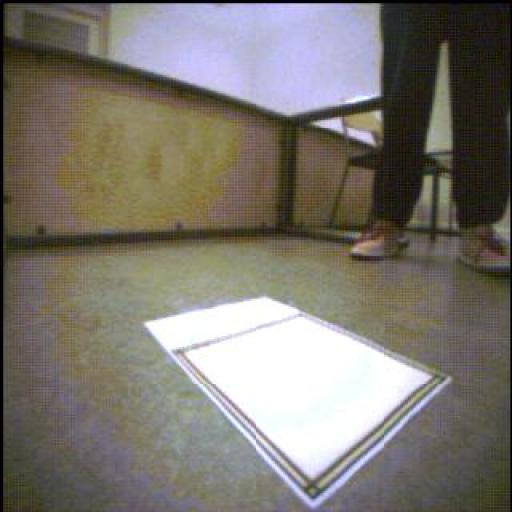Pad: (147, 299, 451, 508)
